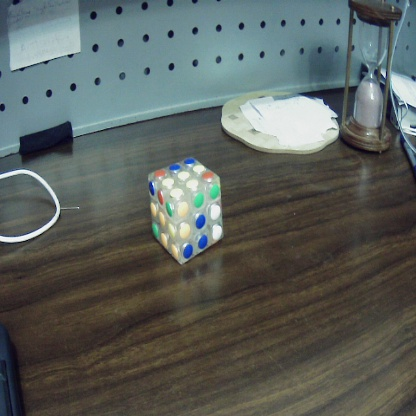Rubix Cube: (146, 156, 225, 269)
